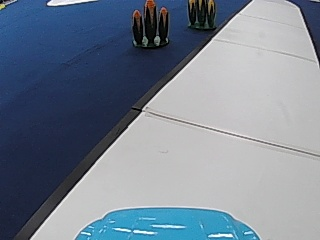corn: (129, 0, 172, 48), (186, 0, 217, 30)
